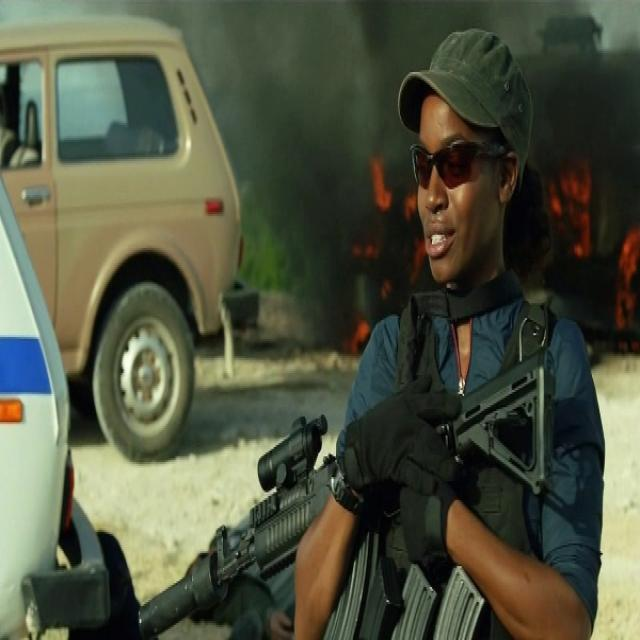rifle: (132, 348, 569, 640)
